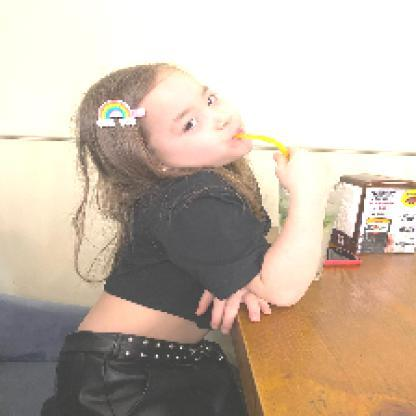child: (40, 61, 339, 416)
